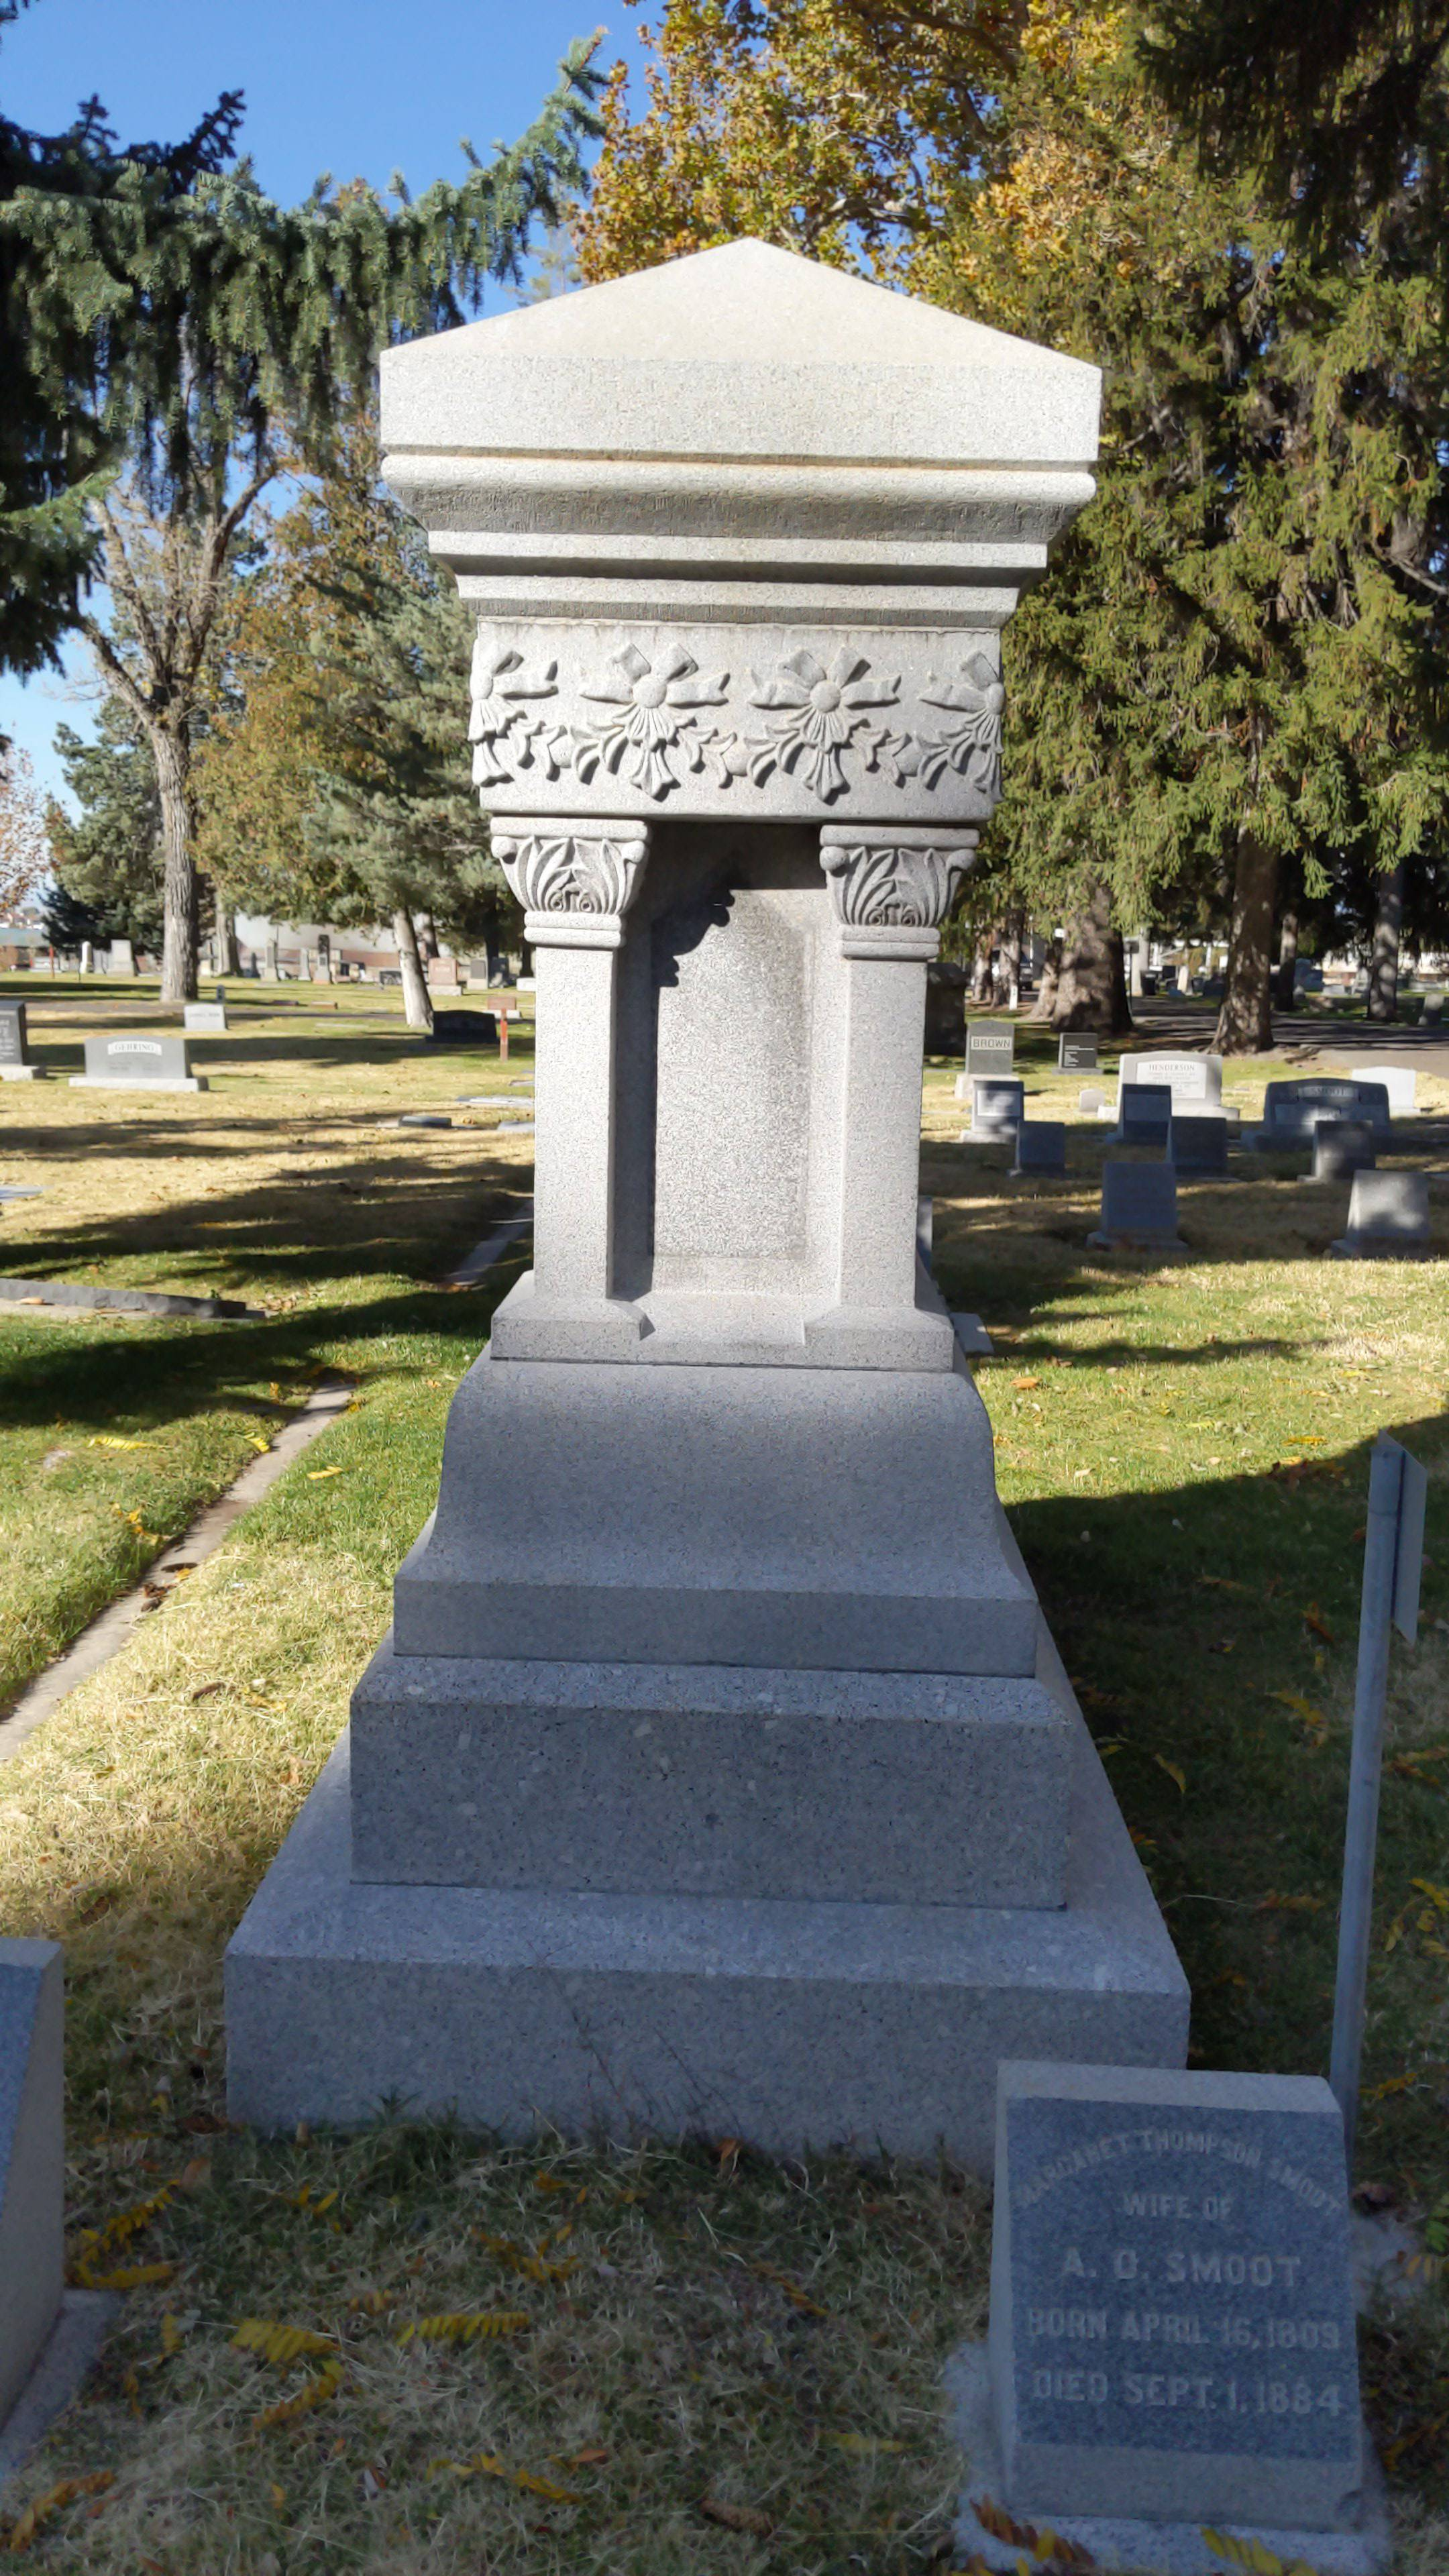mausoleum: (382, 251, 1095, 1674)
